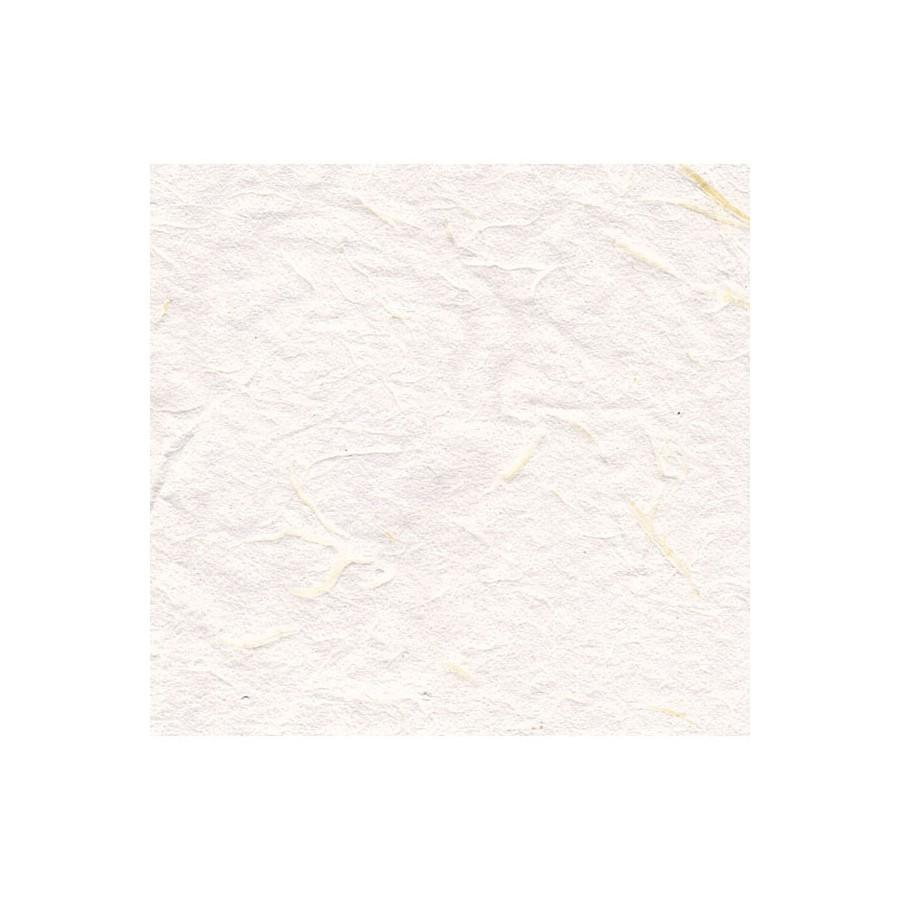slice of bread: (154, 170, 729, 714)
